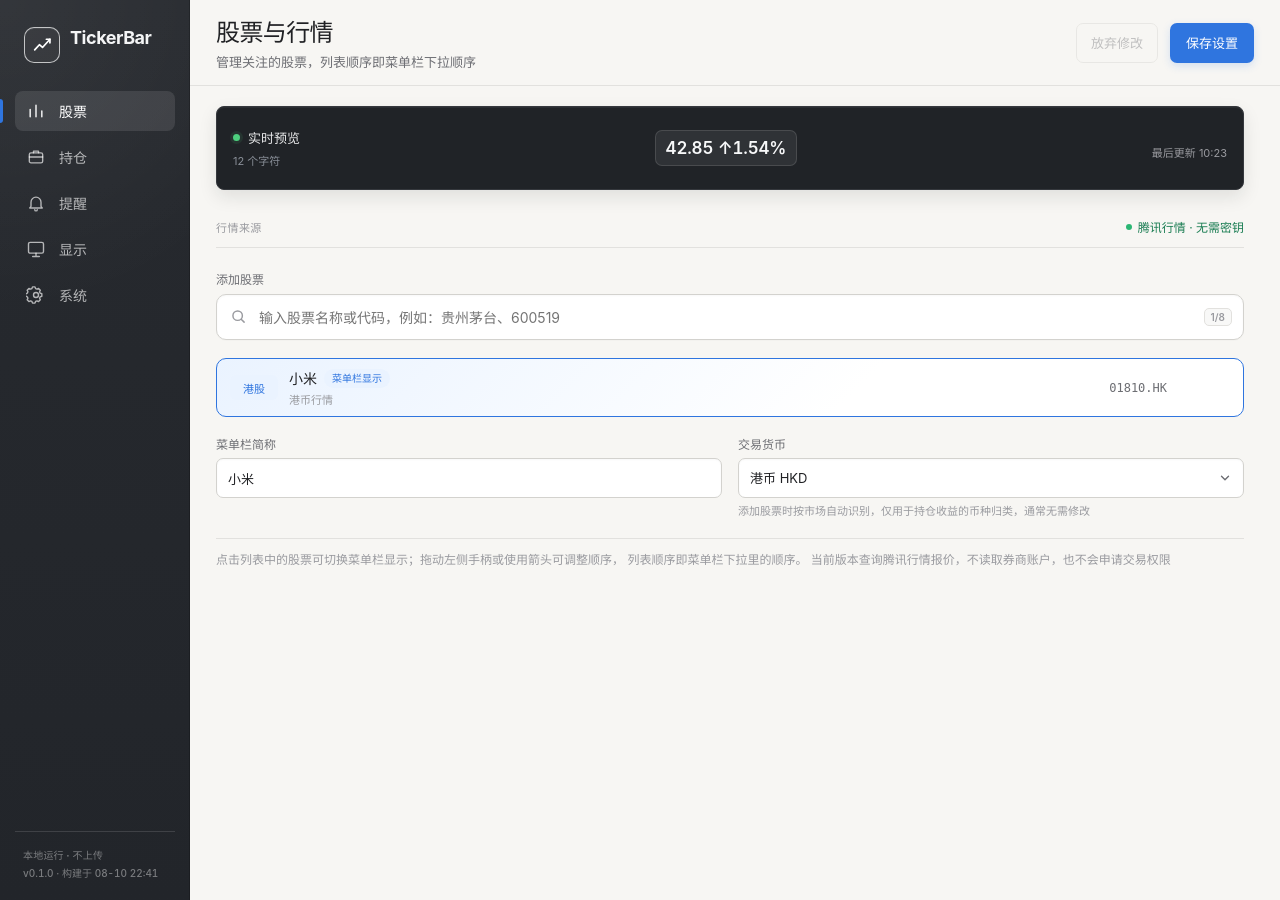
Test: TickerBar settings window › 首次打开落在股票页，并从侧边栏切换分区
Expected: the heading with test id "workspace-title" reads "股票与行情", x1=216 y1=18 x2=333 y2=47
Expected: the element with test id "page-stock" shows "腾讯行情 · 无需密钥", x1=1138 y1=220 x2=1244 y2=235
Step 1. Click the button with test id "nav-display" → (95, 249), box x1=15 y1=229 x2=175 y2=269
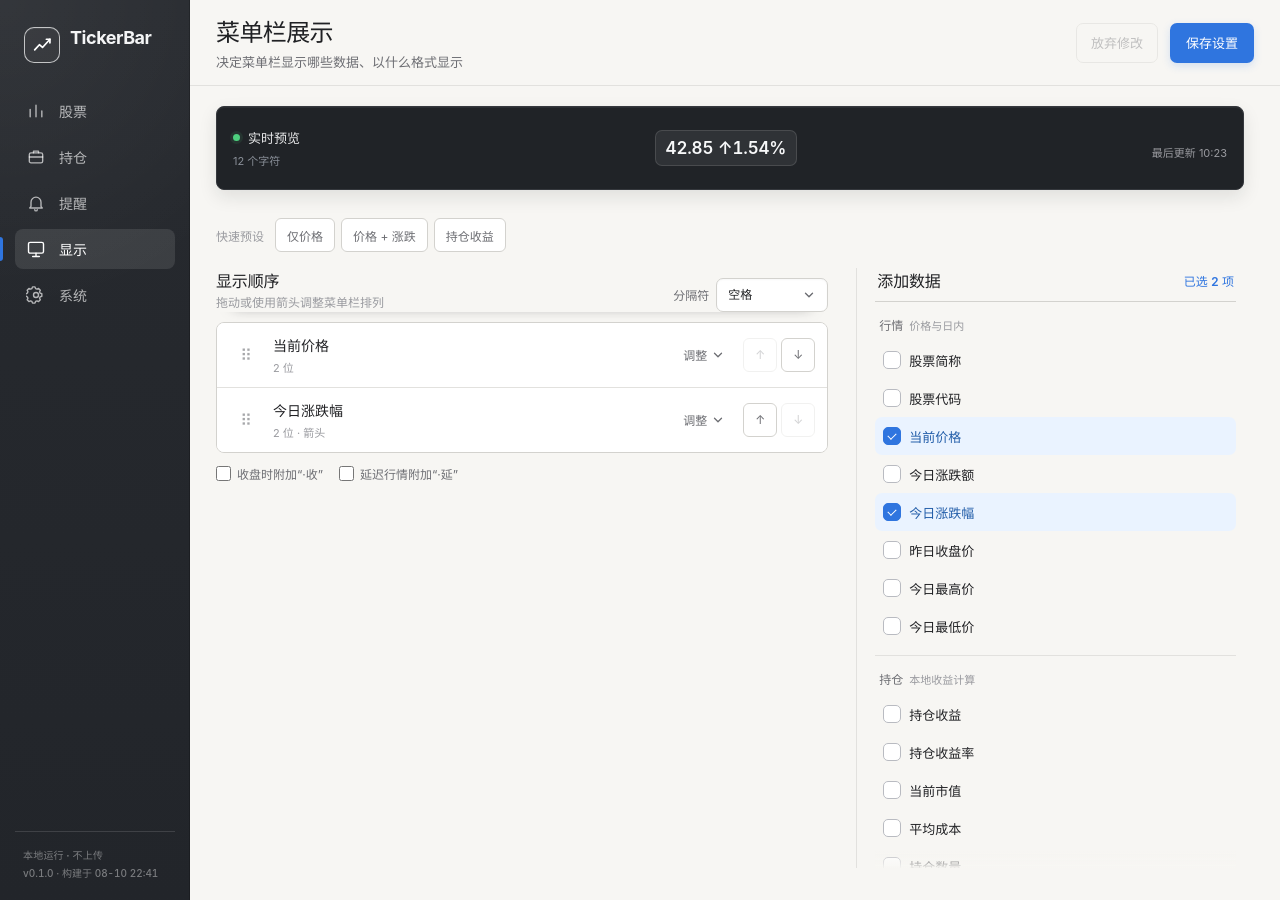
Now the heading with test id "workspace-title" reads "菜单栏展示", box x1=216 y1=18 x2=333 y2=47
